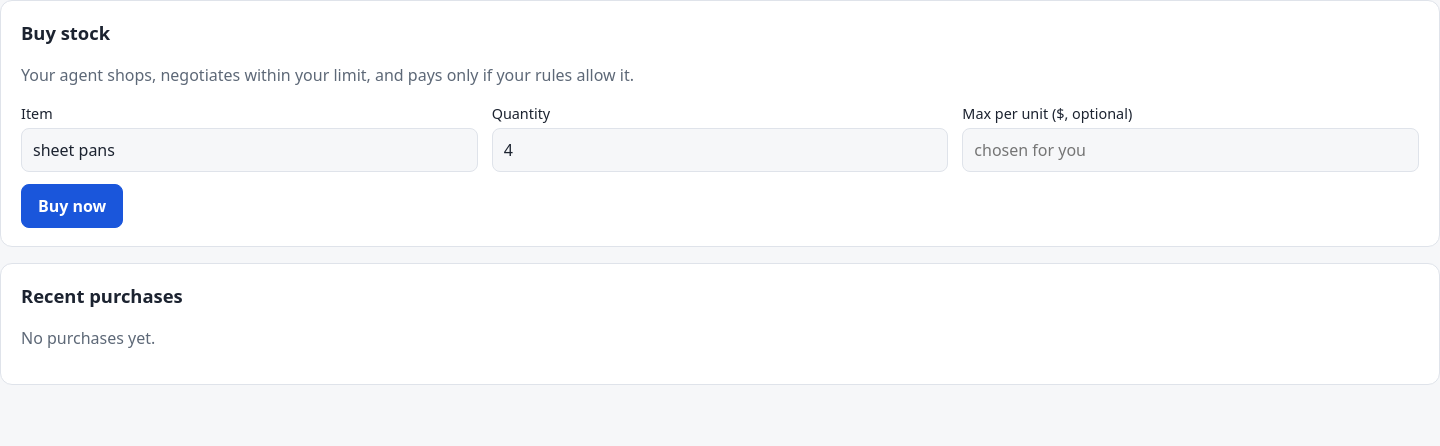
Test: PurchaseScreen › shows a clear message when the purchase fails
The image size is (1440, 446).
Click the button "Buy now" at (72, 206), box [21,184,123,228]
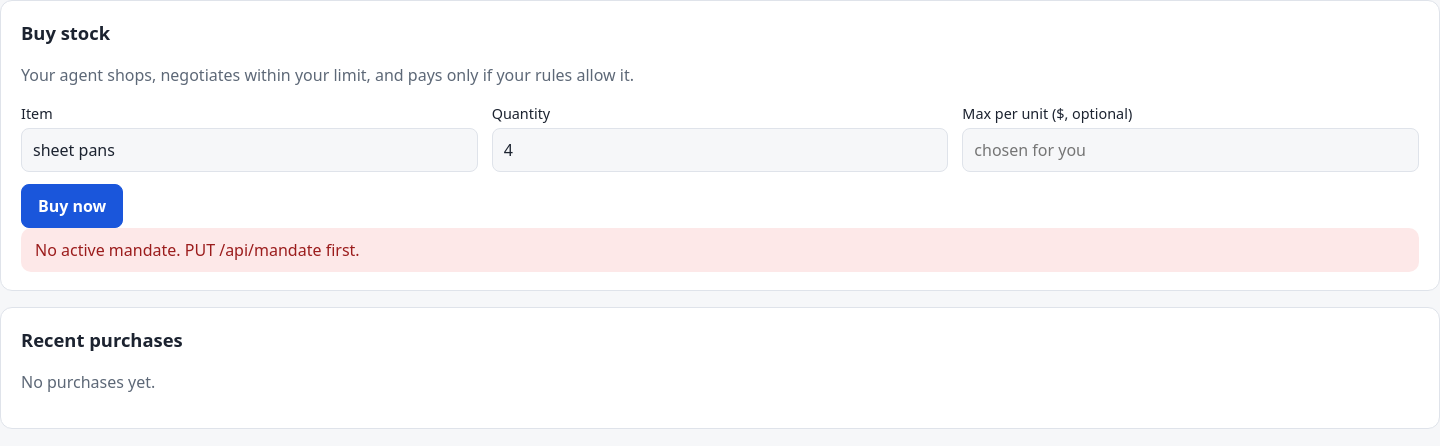
Check: the message shows "No active mandate", box [35,239,360,261]
